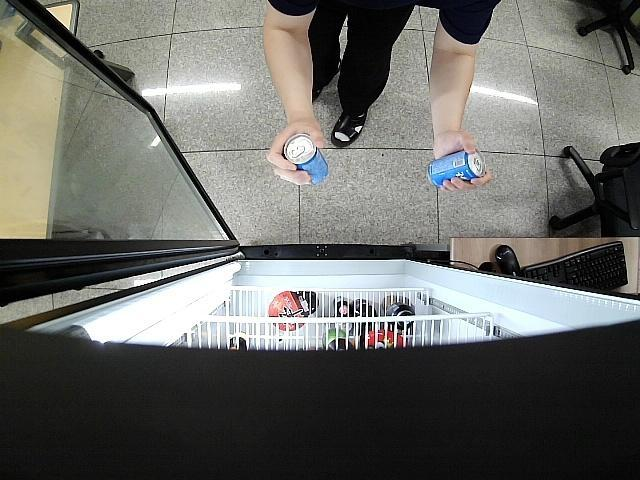15_letsbe: (426, 147, 486, 190), (283, 133, 329, 185)
